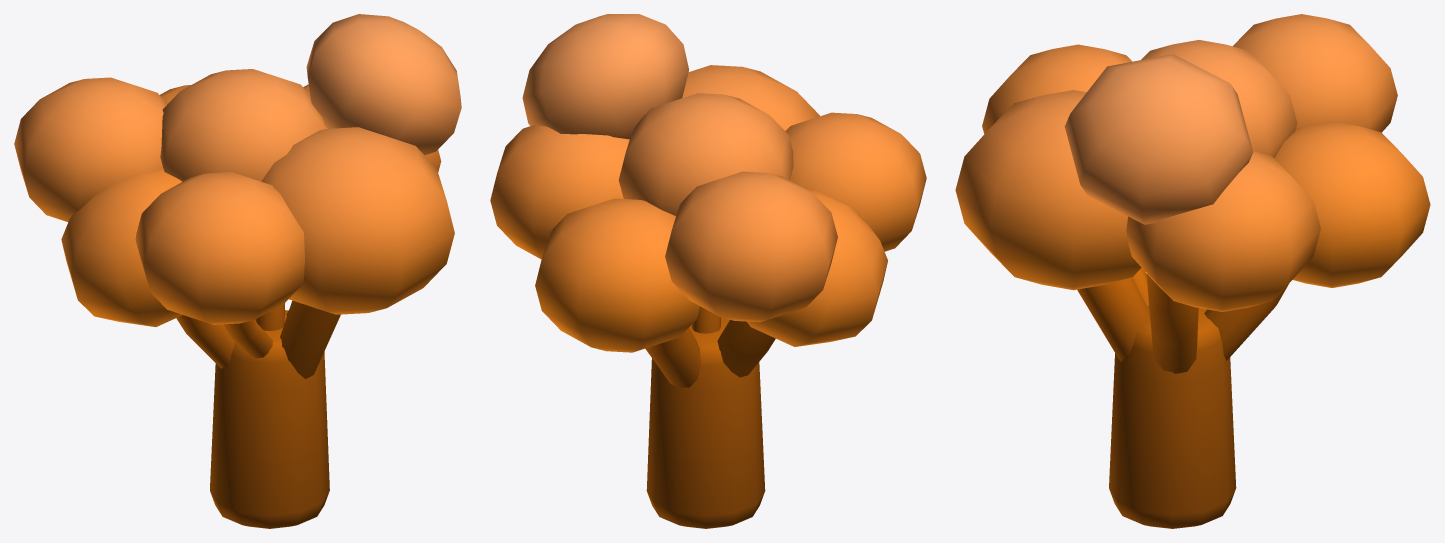
File: Broccoli.fbx
The picture shows the model from 3 angles, left to right: view 1: azimuth 30°, elevation 25°; view 2: azimuth 150°, elevation 25°; view 3: azimuth 270°, elevation 25°; orthographic projection. The views are drawn at different scales.
Visible parts, largest first — view 1: Broccoli; view 2: Broccoli; view 3: Broccoli.
Boxes of the visible parts, x1,y1,x2,y2 form: Broccoli: (14,14,461,528); Broccoli: (490,14,926,528); Broccoli: (955,14,1430,528).
Bounding box in the file's own units: 114 × 119 × 137.
